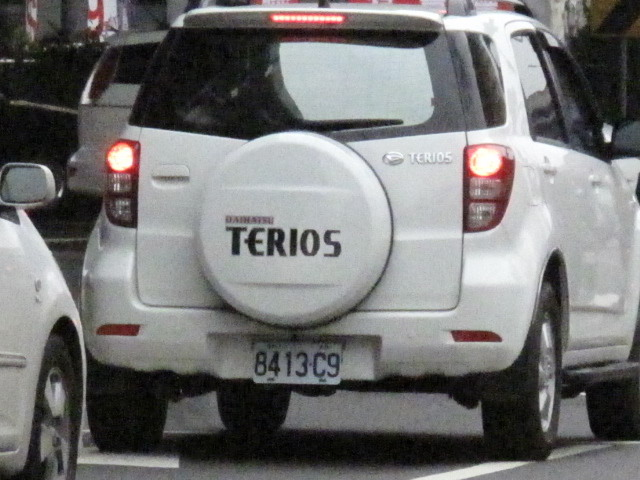plate: (251, 336, 342, 389)
